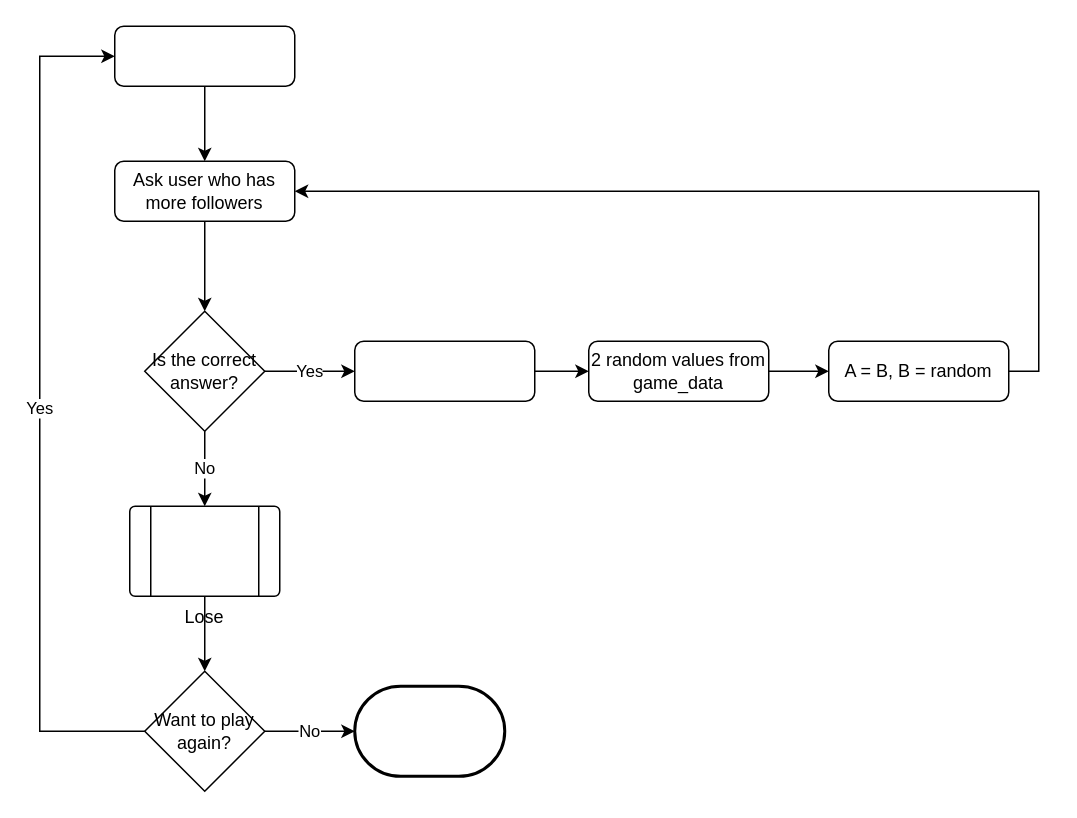
Some shapes in this 1077 by 818 pixel diagram are drawn without their labels. Each missing label, with the box of its shape:
2 random values from game_data: A & B: (113, 25, 295, 86)
END: (352, 684, 506, 777)
Score +1: (353, 340, 535, 401)
